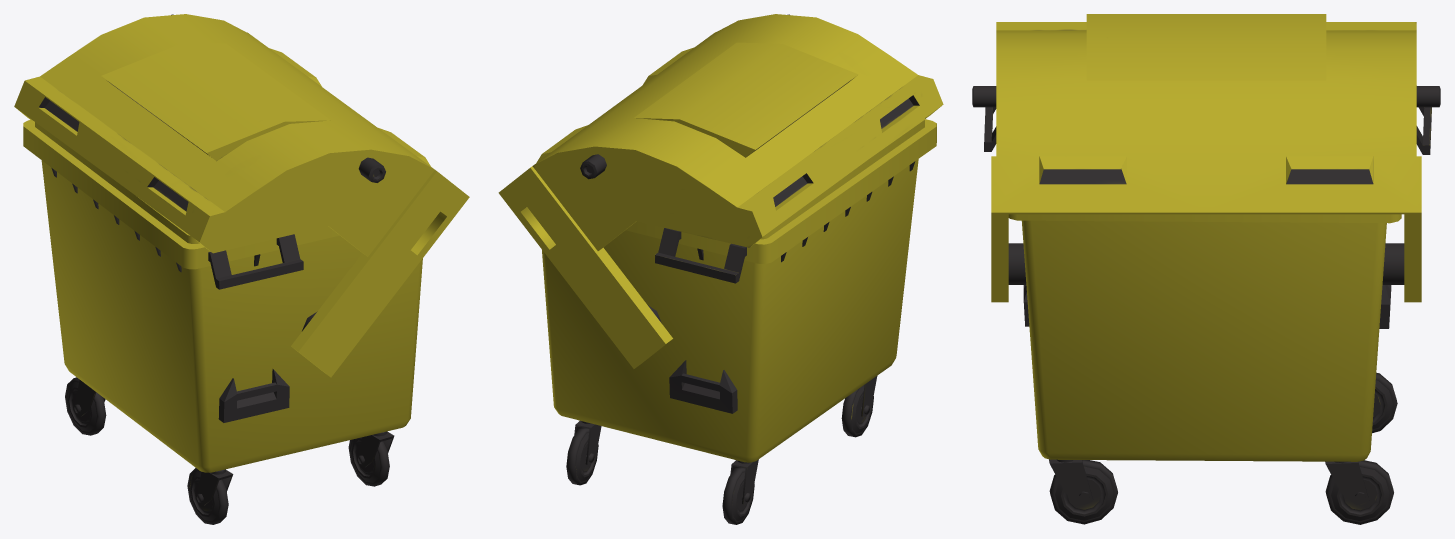
Rendered from DumpsterYellow.glb.
The picture shows the model from 3 angles, left to right: view 1: azimuth 30°, elevation 25°; view 2: azimuth 150°, elevation 25°; view 3: azimuth 270°, elevation 25°; orthographic projection. The views are drawn at different scales.
Visible parts, largest first — view 1: Tonne; view 2: Tonne; view 3: Tonne.
Boxes of the visible parts, left/top/right/bottom form: Tonne: left=14, top=14, right=469, bottom=524; Tonne: left=498, top=14, right=943, bottom=524; Tonne: left=972, top=14, right=1440, bottom=524.
Bounding box in the file's own units: 2.59 × 3.46 × 3.39.
1 material, 1 textured.
